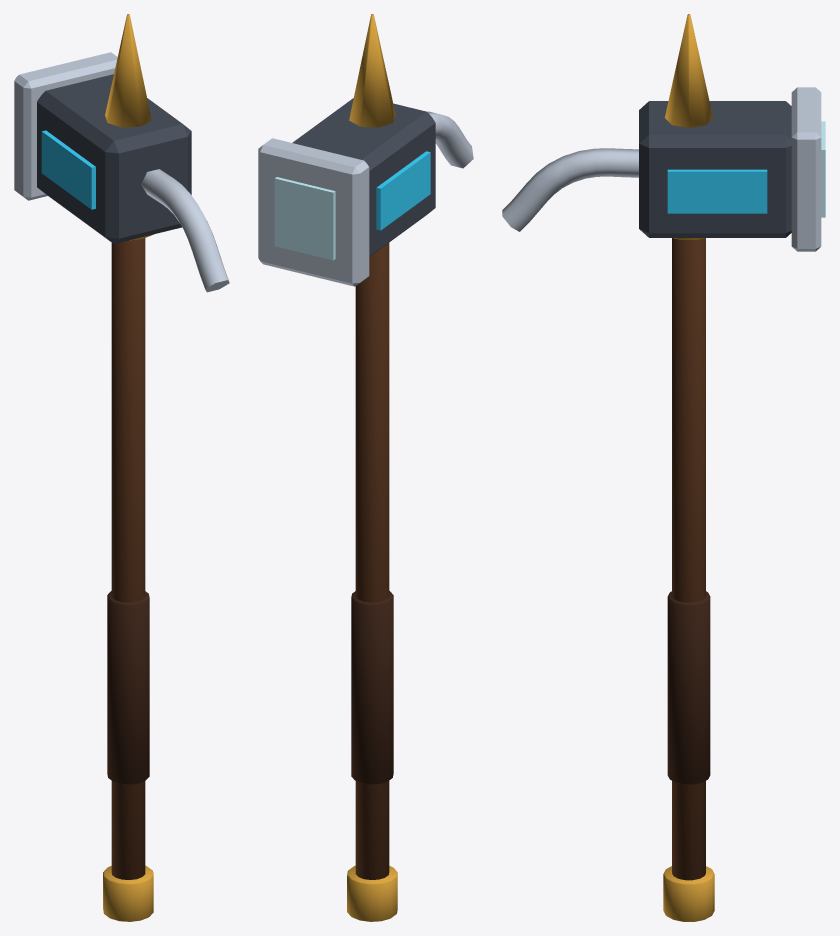
Rendered from melee_warhammer.obj.
The picture shows the model from 3 angles, left to right: view 1: azimuth 30°, elevation 25°; view 2: azimuth 150°, elevation 25°; view 3: azimuth 270°, elevation 25°; orthographic projection.
Visible parts, largest first — view 1: Haft, HammerCore, Grip, ImpactFace, RearBeak, TopSpike, GlowBandR, Pommel; view 2: Haft, ImpactFace, Grip, HammerCore, FaceRune, TopSpike, GlowBandR, Pommel, RearBeak; view 3: Haft, HammerCore, Grip, ImpactFace, GlowBandL, RearBeak, TopSpike, Pommel.
Boxes of the visible parts, x1,y1,x2,y2 form: Haft: (111,238,145,879); HammerCore: (37,74,191,243); Grip: (107,591,149,784); ImpactFace: (14,52,117,200); RearBeak: (141,169,229,292); TopSpike: (105,14,151,127); GlowBandR: (41,130,95,209); Pommel: (103,865,153,921); Haft: (355,243,389,879); ImpactFace: (258,138,369,286); Grip: (351,591,393,784); HammerCore: (292,98,435,256); FaceRune: (274,177,335,260); TopSpike: (349,14,395,127); GlowBandR: (376,151,430,230); Pommel: (347,865,397,921); RearBeak: (427,111,473,168); Haft: (672,238,705,880); HammerCore: (639,101,791,237); Grip: (667,591,710,784); ImpactFace: (791,87,821,251); GlowBandL: (667,169,767,213); RearBeak: (502,148,638,231); TopSpike: (665,14,712,127); Pommel: (663,866,714,921).
Bounding box in the file's own units: 0.165 × 1.39 × 0.4542.
